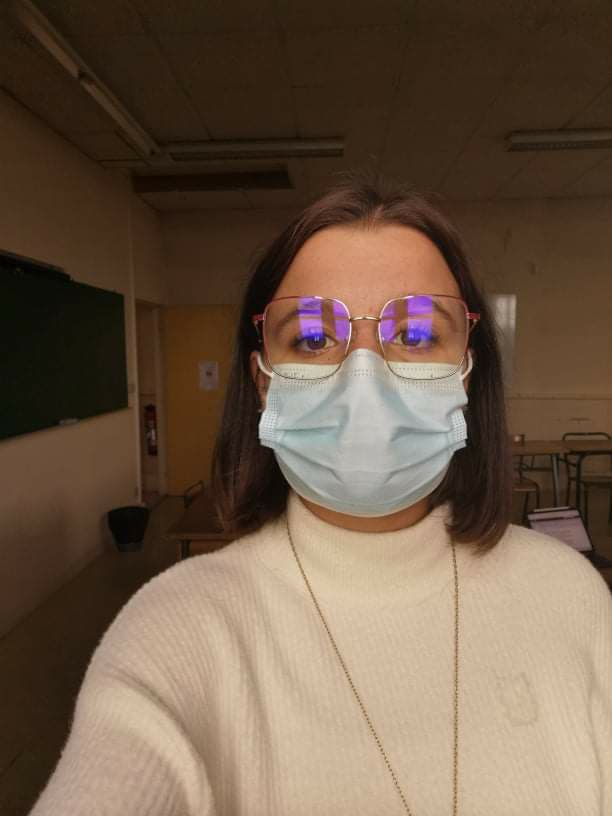with_mask: (250, 217, 483, 517)
